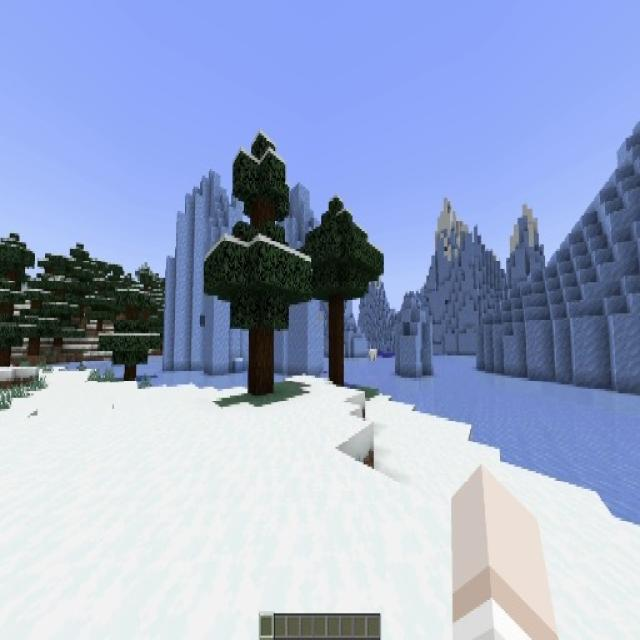spruce: (203, 128, 313, 396), (297, 204, 385, 383), (101, 282, 161, 381), (16, 292, 52, 356)
spruce_log: (249, 328, 273, 393), (329, 302, 345, 386), (0, 346, 12, 366), (124, 364, 136, 380), (29, 338, 39, 354), (54, 338, 62, 347), (98, 320, 102, 331)
